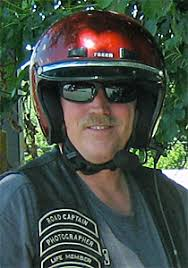com_capacete: (28, 7, 169, 168)
